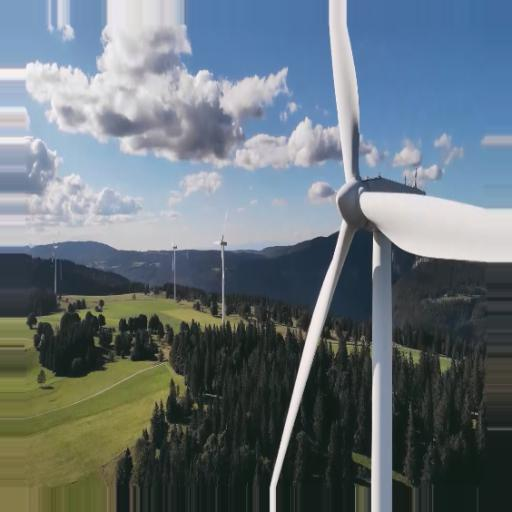wind turbine: (271, 1, 512, 496), (212, 205, 232, 307)
